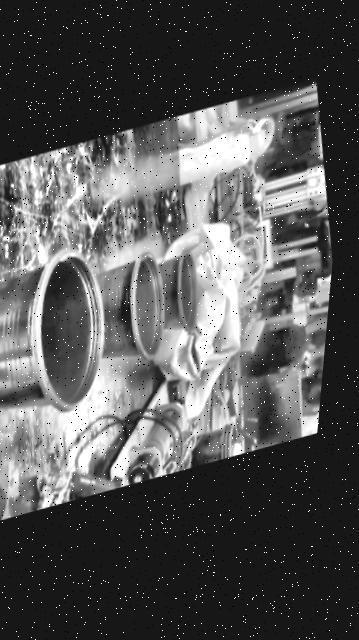pot: (0, 243, 121, 439), (95, 253, 162, 360), (157, 251, 195, 331), (183, 420, 237, 469)
